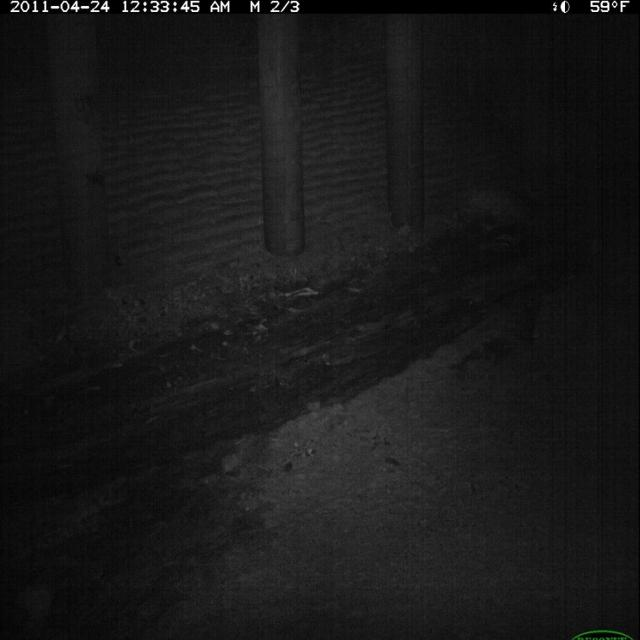opossum: (3, 2, 640, 640)
